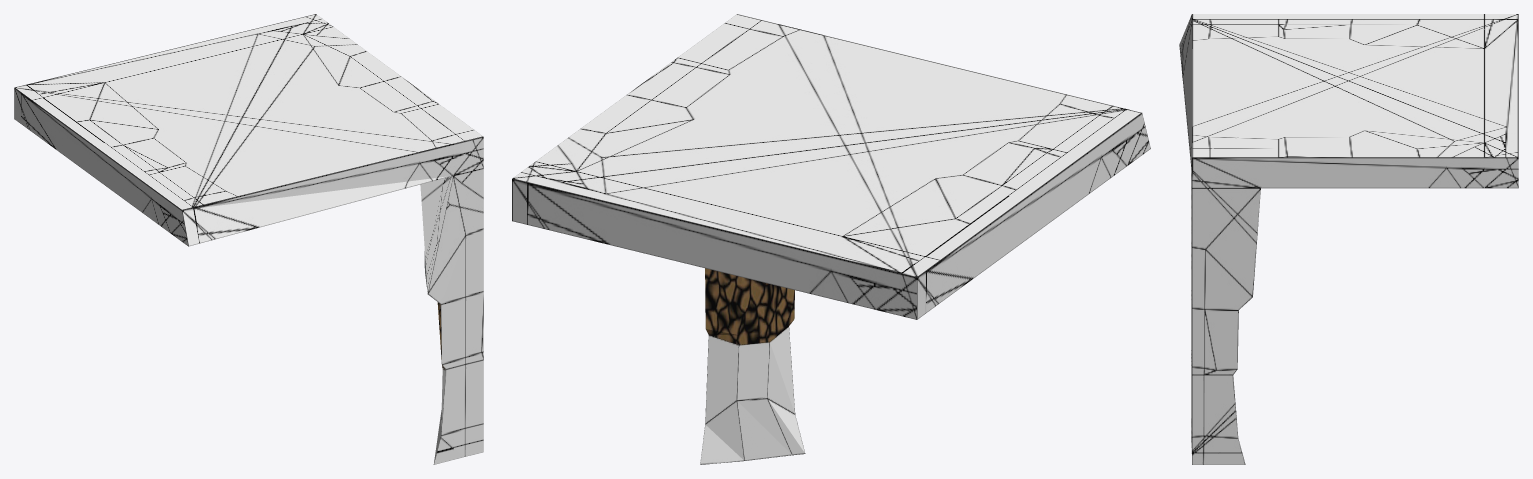
Rendered from EspacioPirateriaEsquinaAperturaInteriorAltoNS.gltf.
The picture shows the model from 3 angles, left to right: view 1: azimuth 30°, elevation 25°; view 2: azimuth 150°, elevation 25°; view 3: azimuth 270°, elevation 25°; orthographic projection. The views are drawn at different scales.
Parts seen in each view (by area): view 1: Cubo.35; view 2: Cubo.35; view 3: Cubo.35.
Part boxes in pixels (x1,y1,x2,y2): Cubo.35: (14,14,483,464); Cubo.35: (512,14,1150,464); Cubo.35: (1179,14,1518,464).
Bounding box in the file's own units: 2 × 2 × 2.
Materials: 1 (1 with a texture image).
